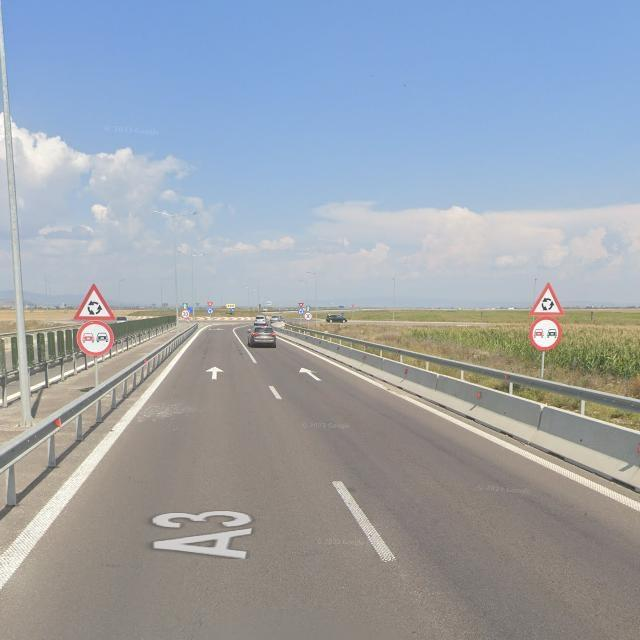forb_overtake: (530, 315, 564, 352), (77, 323, 115, 356)
